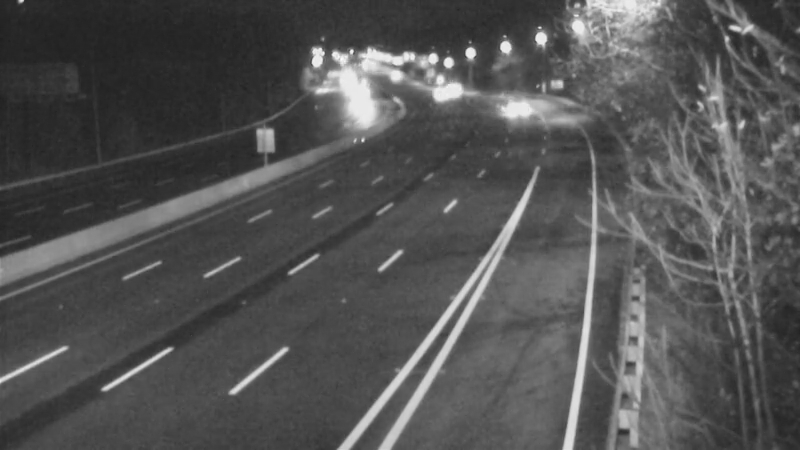vehicle: (430, 61, 480, 111), (416, 71, 466, 121), (488, 87, 538, 137)
